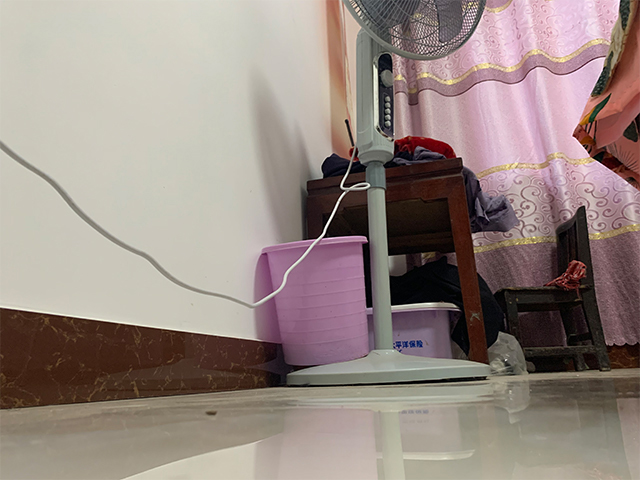curtain: (391, 1, 640, 349)
stool: (306, 155, 490, 366), (492, 205, 612, 373)
trashcan: (262, 236, 371, 366)
